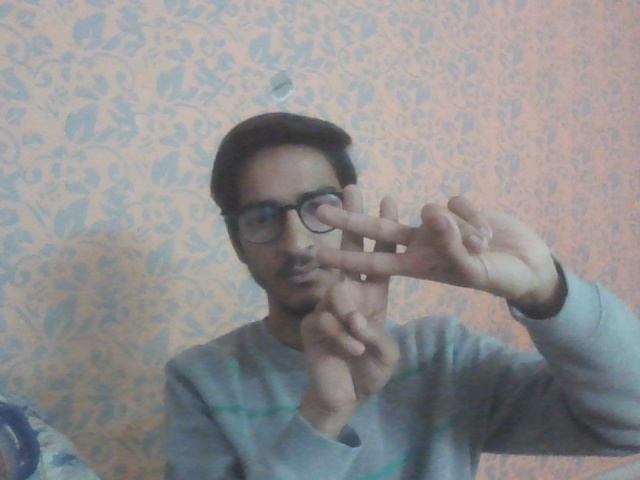HackJMI: (296, 183, 561, 420)
